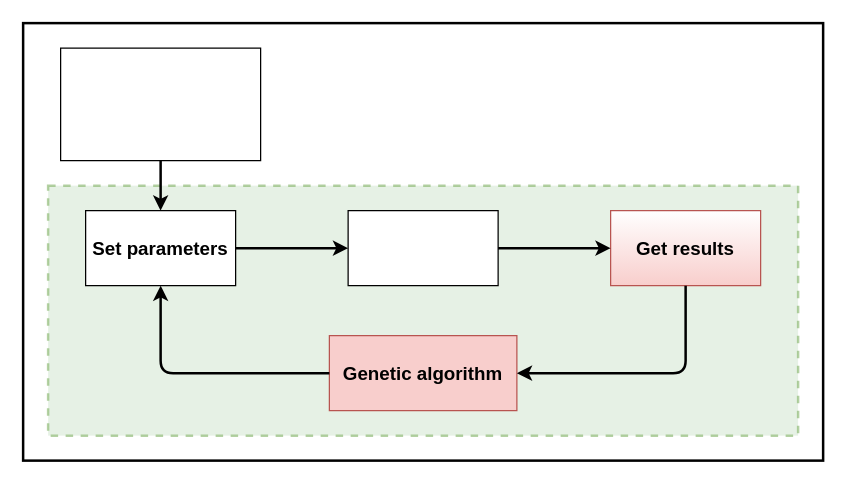
The diagram is 845 pixels wide and 483 high, and some of its shapes have lost their labels. Here are the shapes that lost their labels. From the top down, the box of each, then its label:
(59, 47, 261, 161): Model Design Firing rule Learning process Grow dynamics
(347, 209, 498, 286): Simulate
